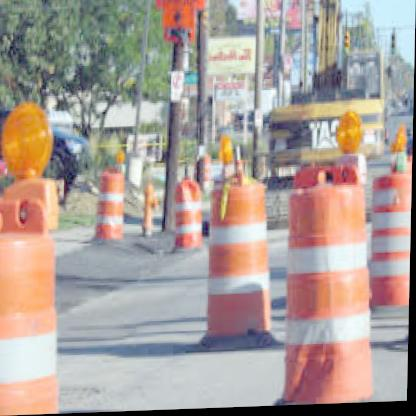obstacle: (279, 180, 371, 407), (207, 176, 272, 345), (94, 169, 128, 244)
